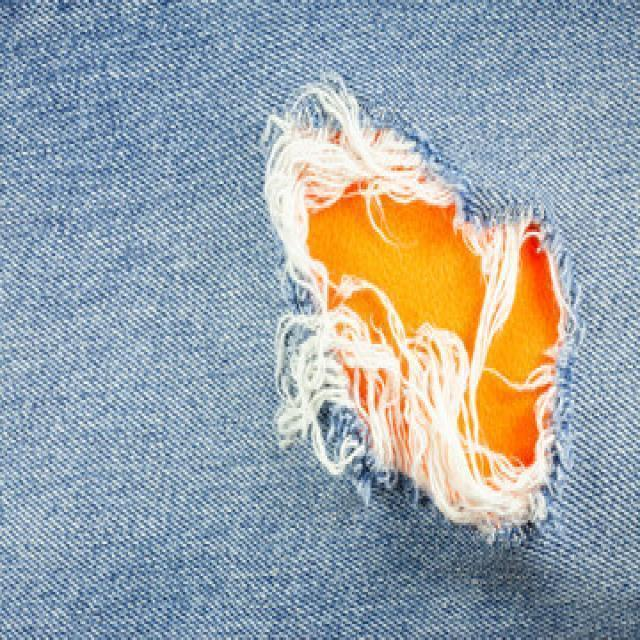Hole: (263, 78, 579, 542)
